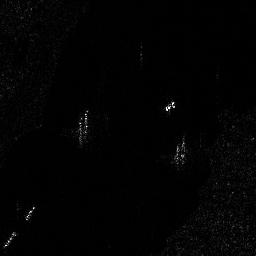ship: (4, 230, 16, 248), (24, 204, 35, 220), (165, 99, 176, 111)
